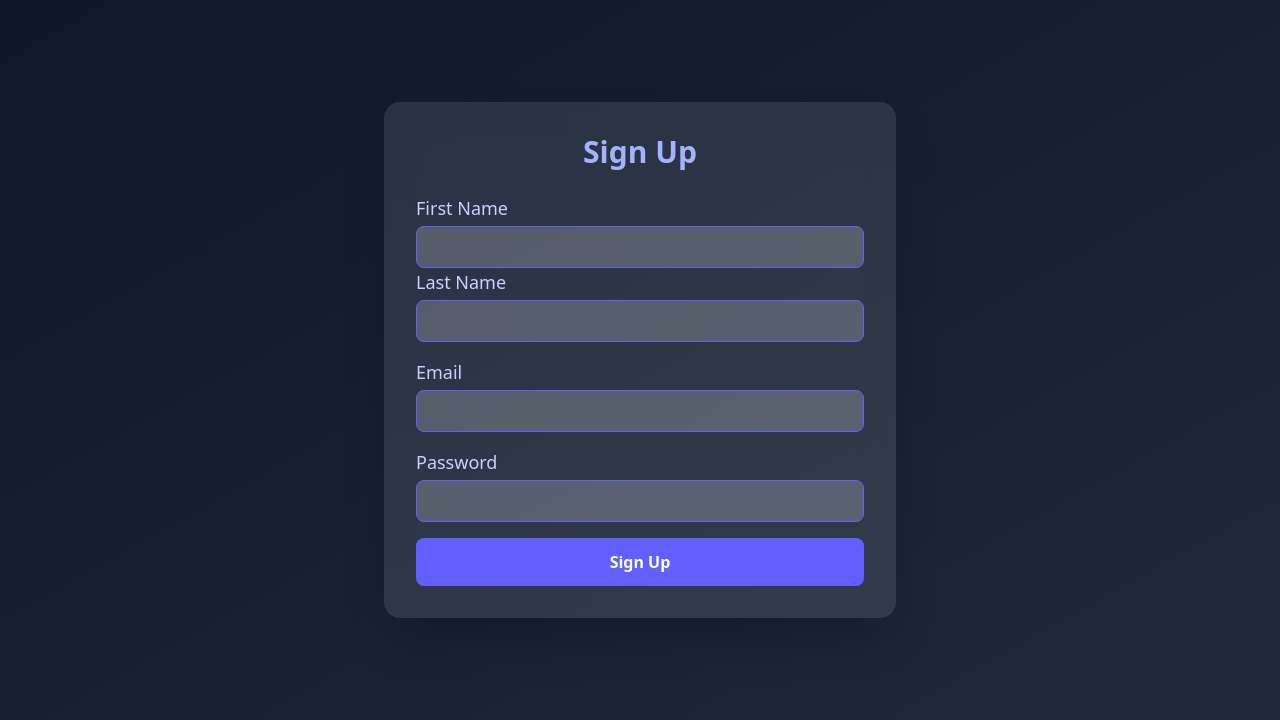
Test: SignupForm › shows error on failed signup
Type "Jane" into the field labelled "First Name" at x=640, y=247, box [416,226,864,268]
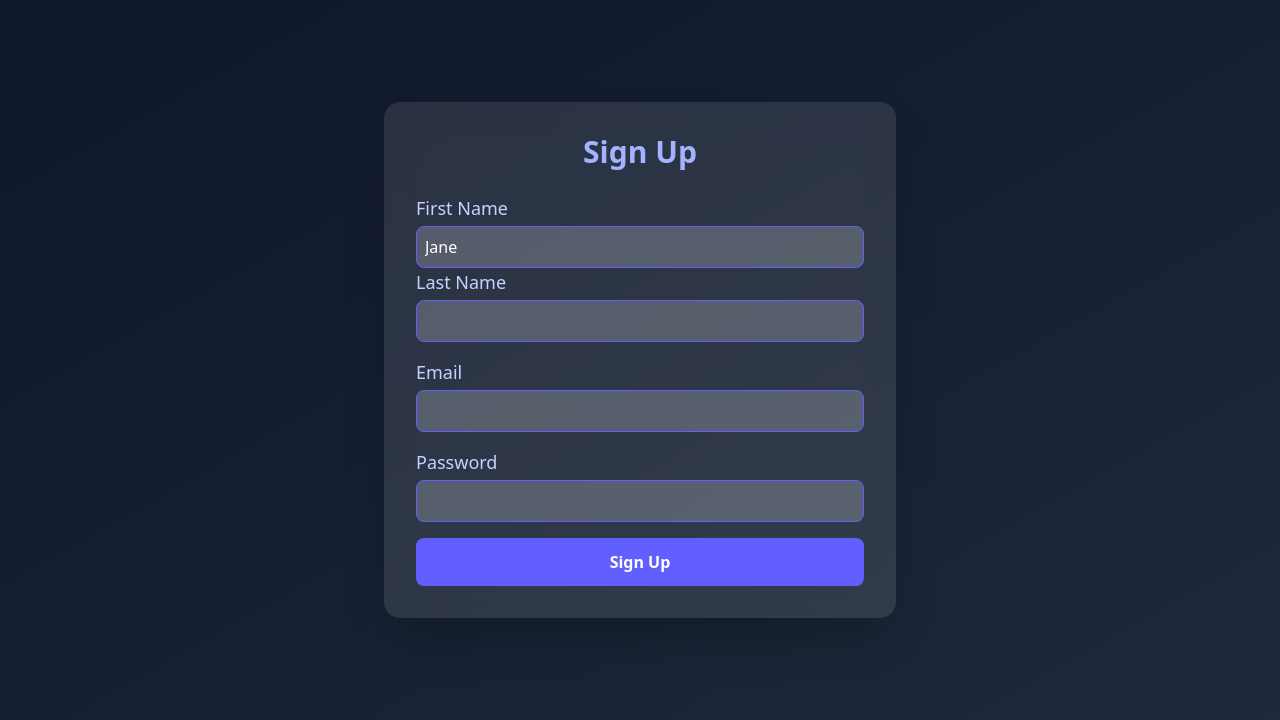
Type "Doe" into the field labelled "Last Name" at x=640, y=321, box [416,300,864,342]
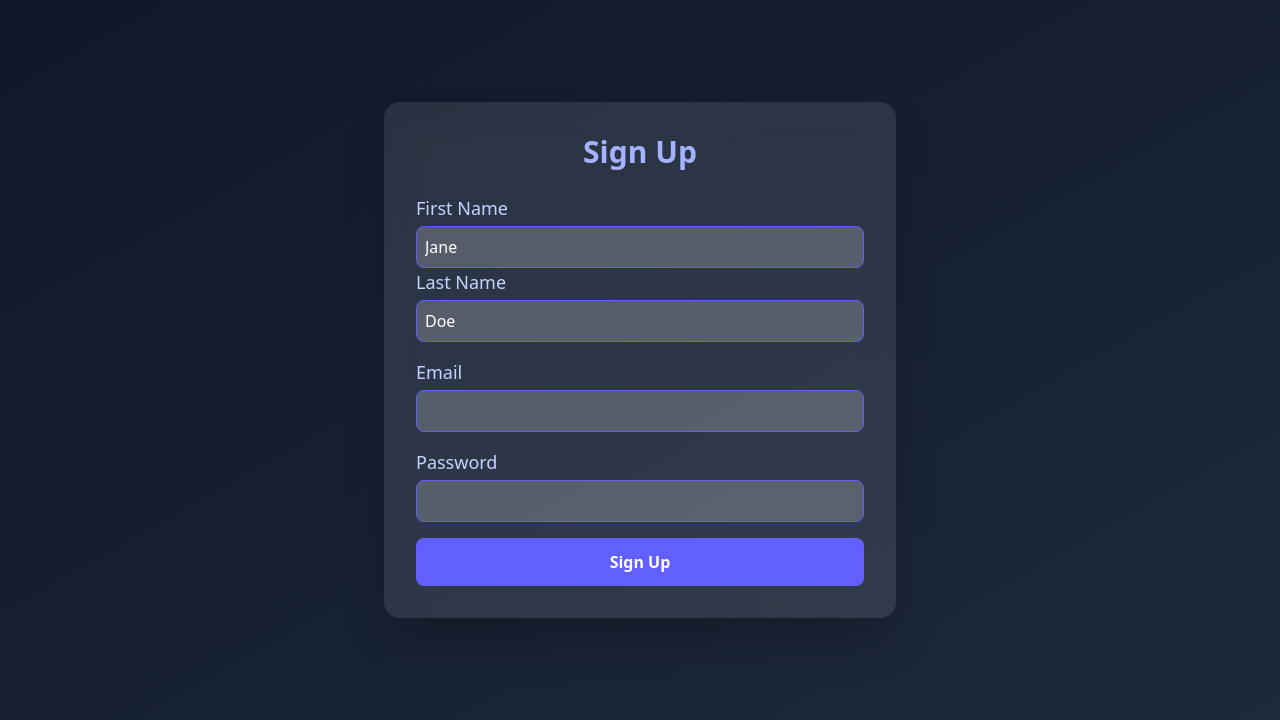
Type "jane@example.com" into the field labelled "Email" at x=640, y=411, box [416,390,864,432]
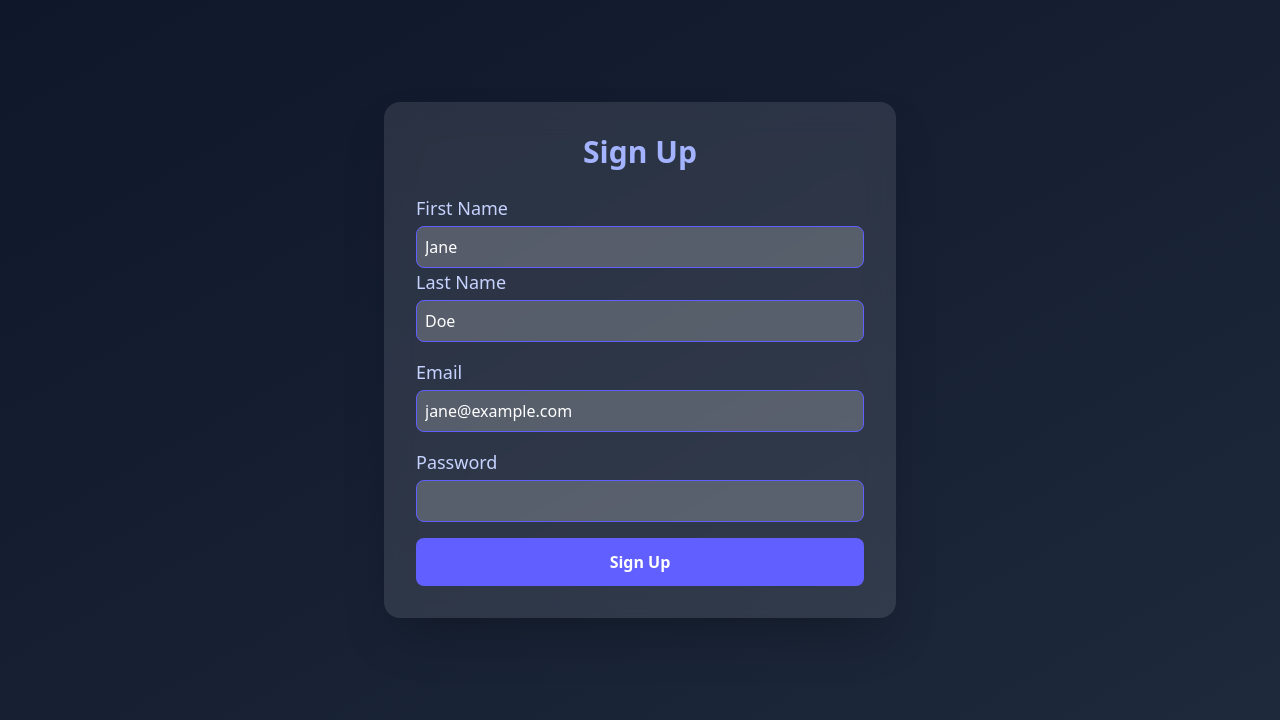
Type "password123" into the password field labelled "Password" at x=640, y=501, box [416,480,864,522]
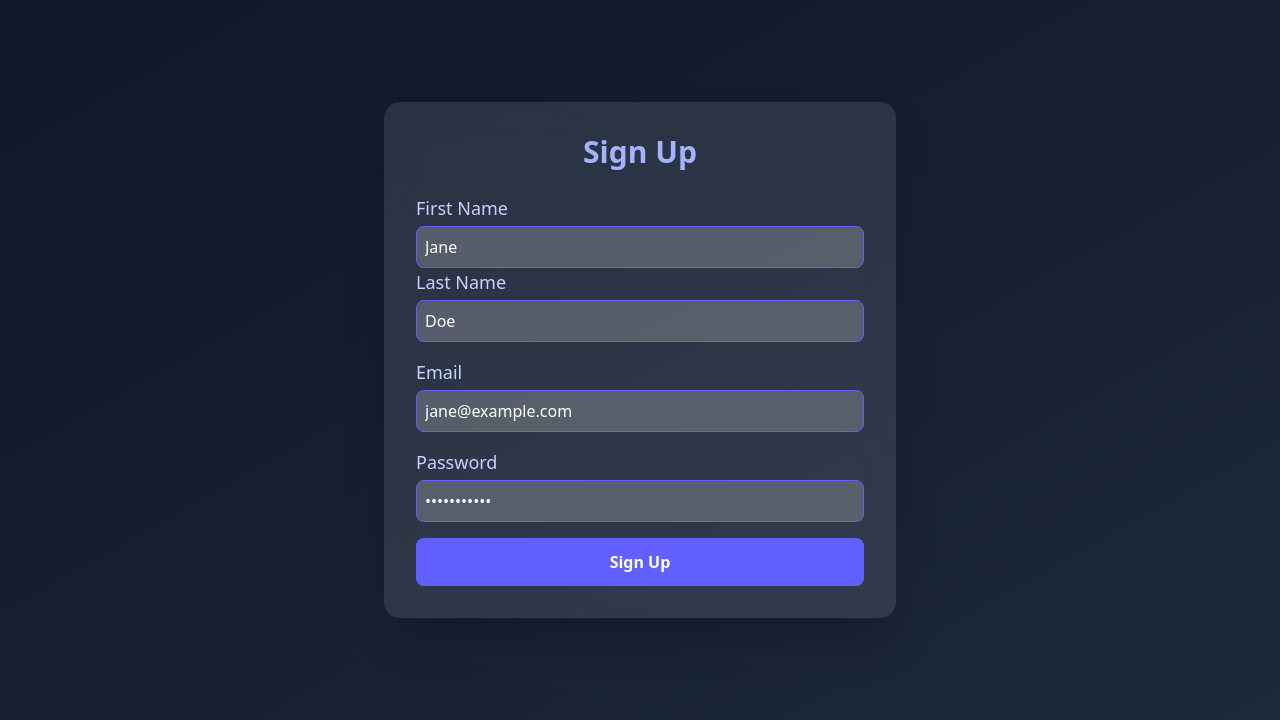
Click the button "Sign Up" at x=640, y=562, box [416,538,864,586]
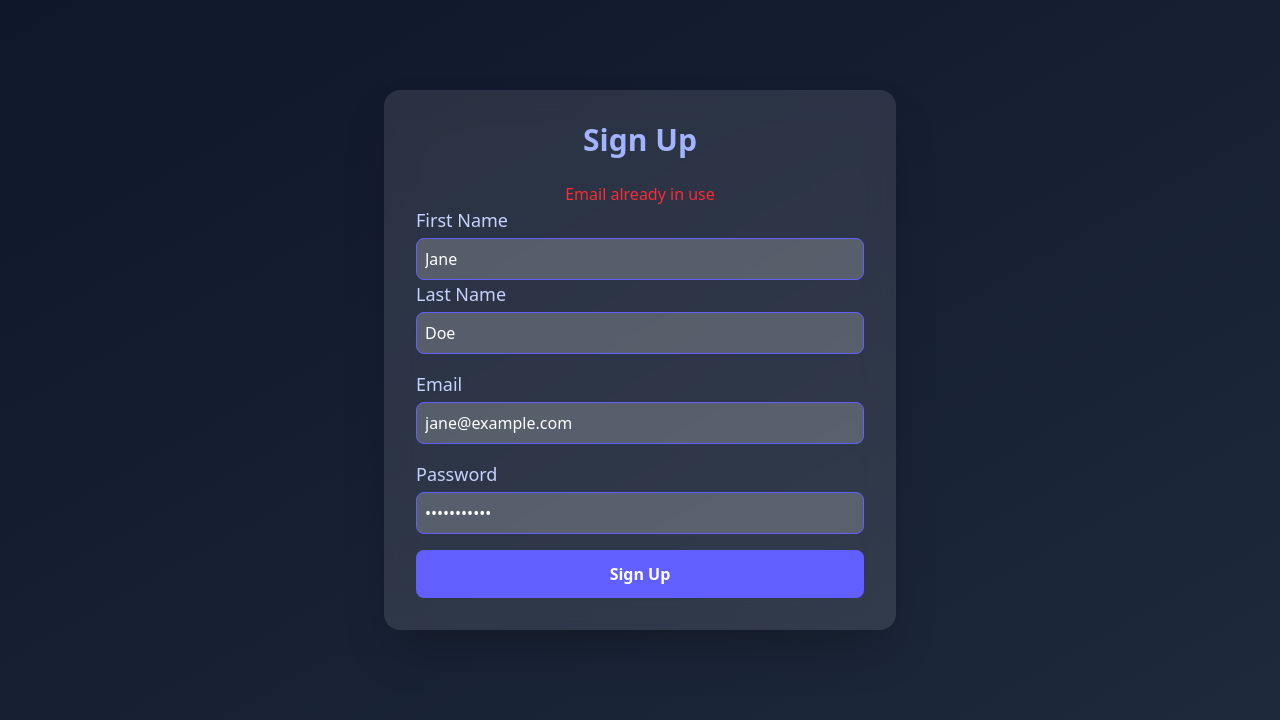
Check: the text "Email already in use" is shown, box [565,183,715,205]
